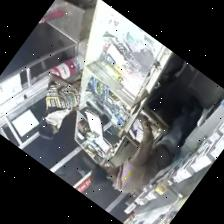person: (91, 97, 202, 191), (38, 73, 80, 138)
